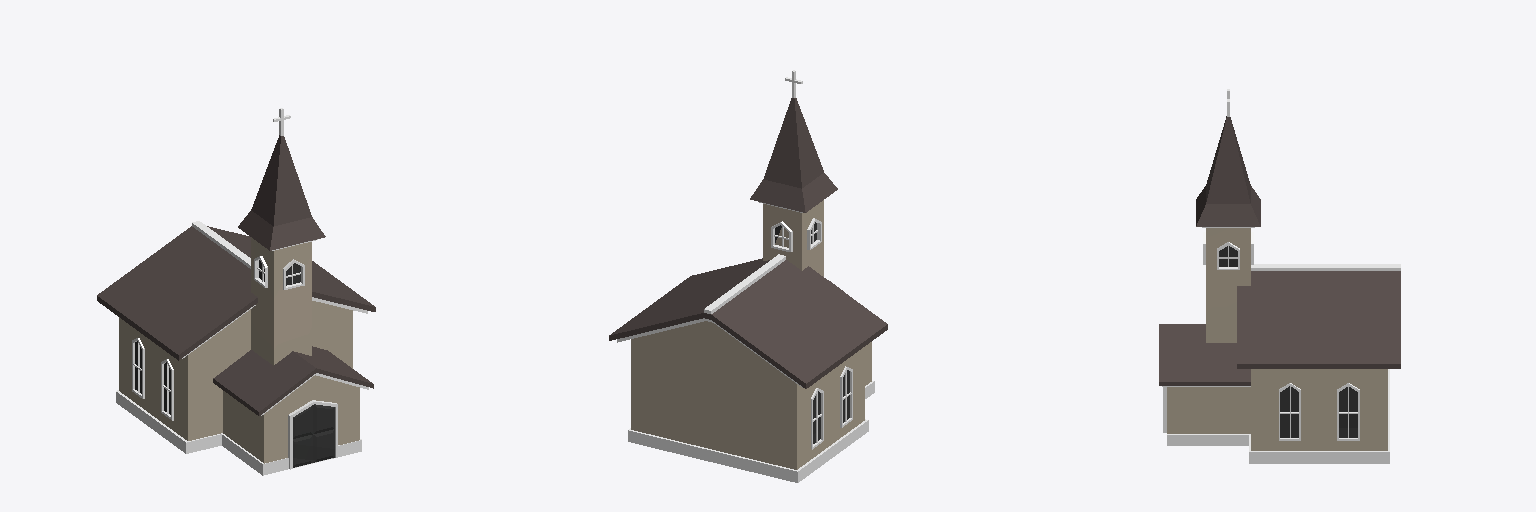
3 renders of one model, left to right at view 1: azimuth 30°, elevation 25°; view 2: azimuth 150°, elevation 25°; view 3: azimuth 270°, elevation 25°, orthographic.
Visible parts, largest first — view 1: Cube.003_Cube.001; view 2: Cube.003_Cube.001; view 3: Cube.003_Cube.001.
Boxes of the visible parts, box(x1,y1,x2,y2) form: Cube.003_Cube.001: box(97, 108, 375, 475); Cube.003_Cube.001: box(609, 70, 887, 482); Cube.003_Cube.001: box(1159, 89, 1400, 463).
Bounding box in the file's own units: 18.98 × 30.53 × 20.16.
Materials: 1 (1 with a texture image).